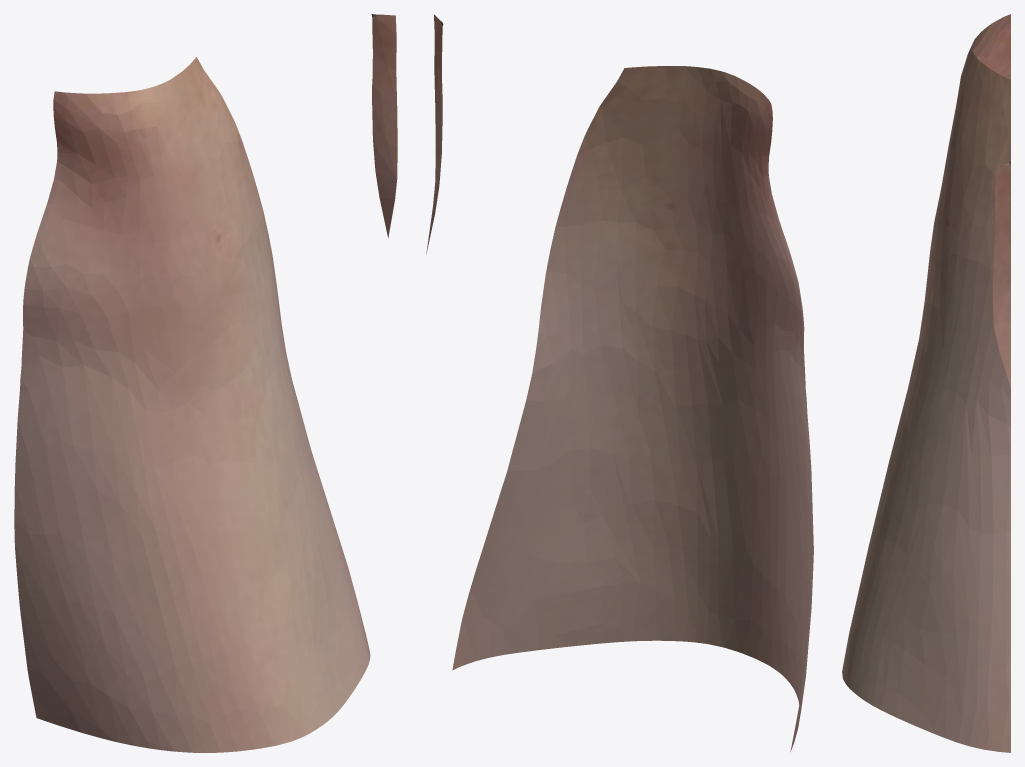
3 renders of one model, left to right at view 1: azimuth 30°, elevation 25°; view 2: azimuth 150°, elevation 25°; view 3: azimuth 270°, elevation 25°, orthographic. The views are drawn at different scales.
Parts seen in each view (by area): view 1: 091_W_Aya_100K_01; view 2: 091_W_Aya_100K_01; view 3: 091_W_Aya_100K_01.
Boxes of the visible parts, x1,y1,x2,y2 form: 091_W_Aya_100K_01: (14,14,397,752); 091_W_Aya_100K_01: (426,14,813,751); 091_W_Aya_100K_01: (842,14,1010,752).
Bounding box in the file's own units: 108 × 171 × 44.09.
Materials: 1 (1 with a texture image).
